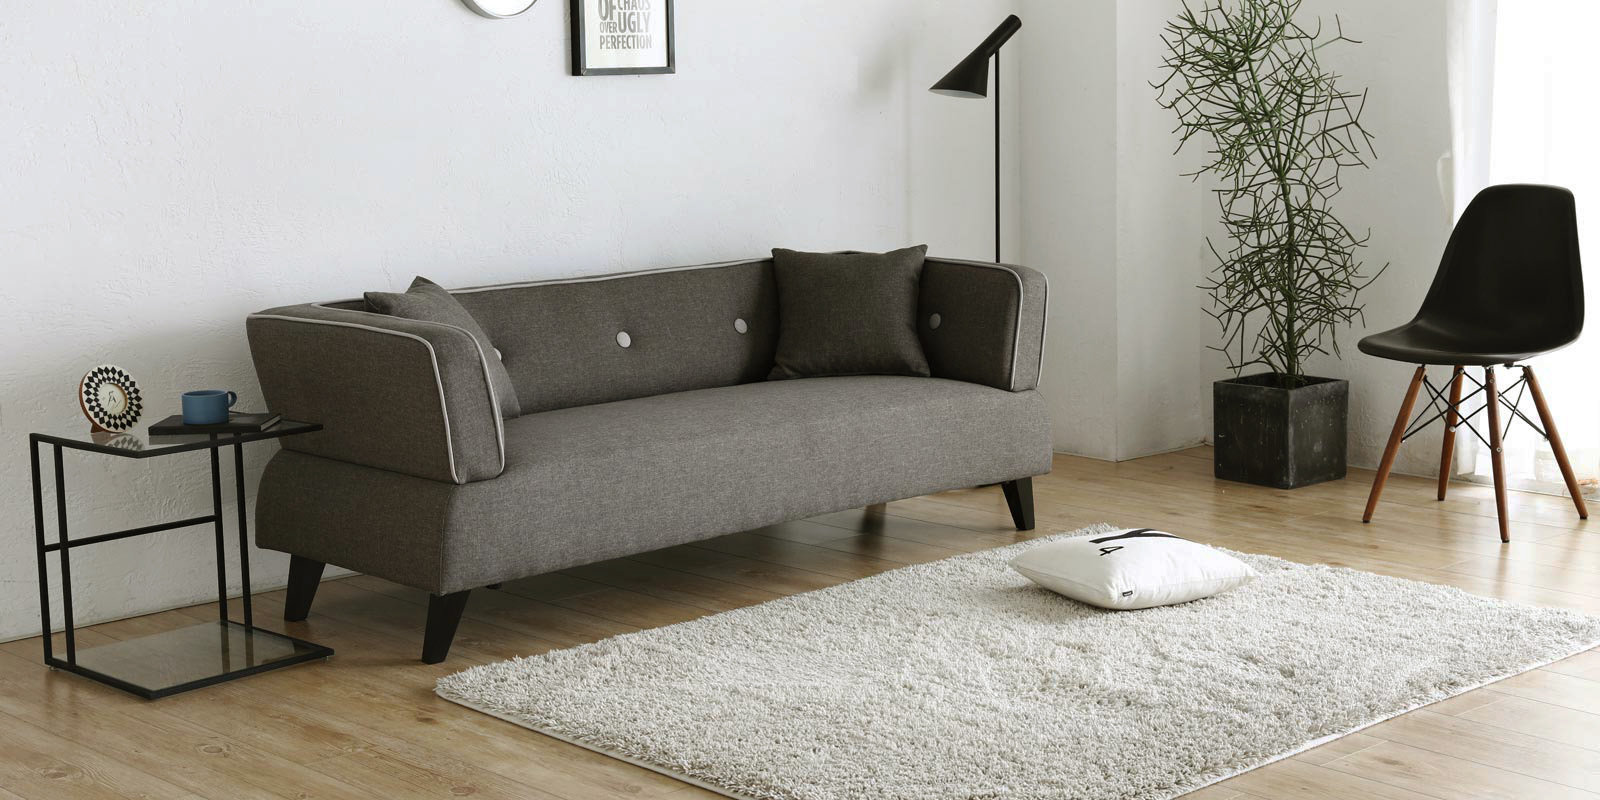Dime Three Seater Sofa in Grey Colour by Zofa: (241, 242, 1066, 672)
